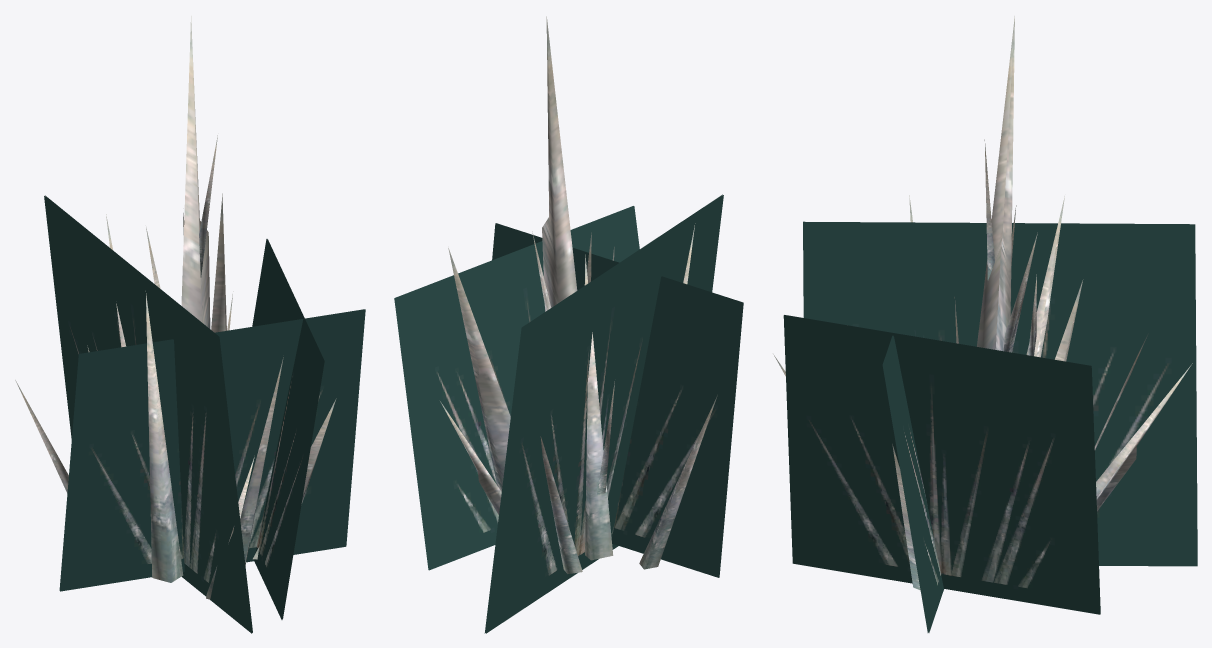
Rendered from rock_crystl_shrpbush_main_l2.fbx.
3 renders of one model, left to right at view 1: azimuth 30°, elevation 25°; view 2: azimuth 150°, elevation 25°; view 3: azimuth 270°, elevation 25°, orthographic. The views are drawn at different scales.
Parts seen in each view (by area): view 1: mesh_node; view 2: mesh_node; view 3: mesh_node.
Boxes of the visible parts, bbox=[...] form: mesh_node: bbox=[15, 16, 365, 633]; mesh_node: bbox=[394, 16, 743, 633]; mesh_node: bbox=[773, 16, 1197, 632].
Size of the model in its own units: 3.32 by 5.98 by 4.04.
